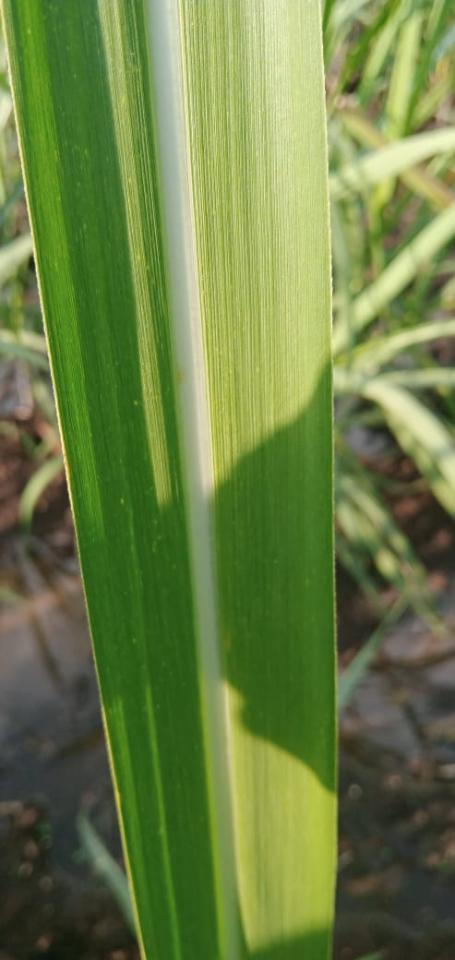Healthy: (5, 0, 337, 959)
